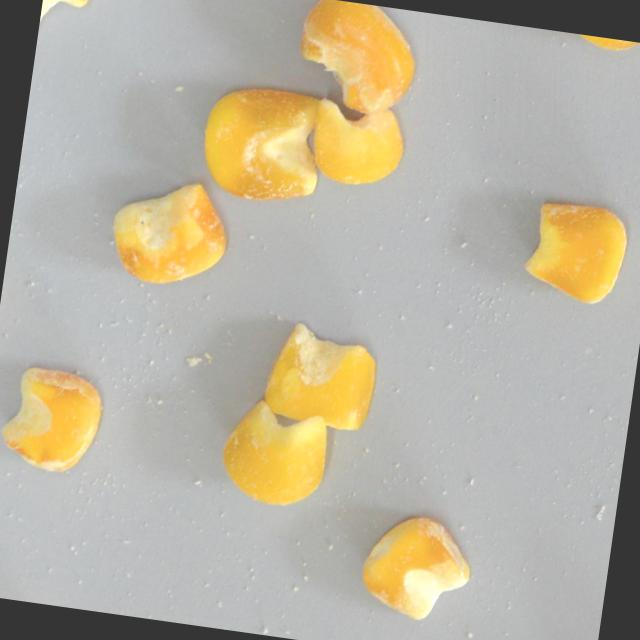no_canjicado: (258, 318, 381, 433)
pelicula: (193, 81, 325, 208), (287, 0, 424, 120), (104, 174, 232, 293), (355, 509, 477, 627), (215, 393, 333, 513), (519, 195, 630, 310), (0, 360, 105, 479), (305, 95, 407, 192), (537, 28, 640, 54), (37, 0, 90, 41)
